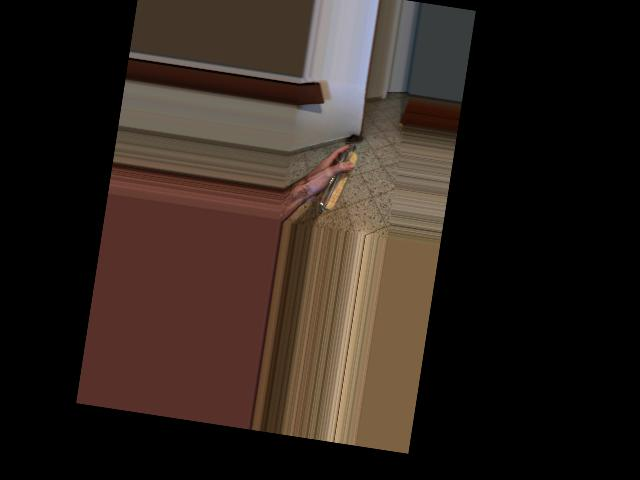cheese: (302, 135, 367, 208)
